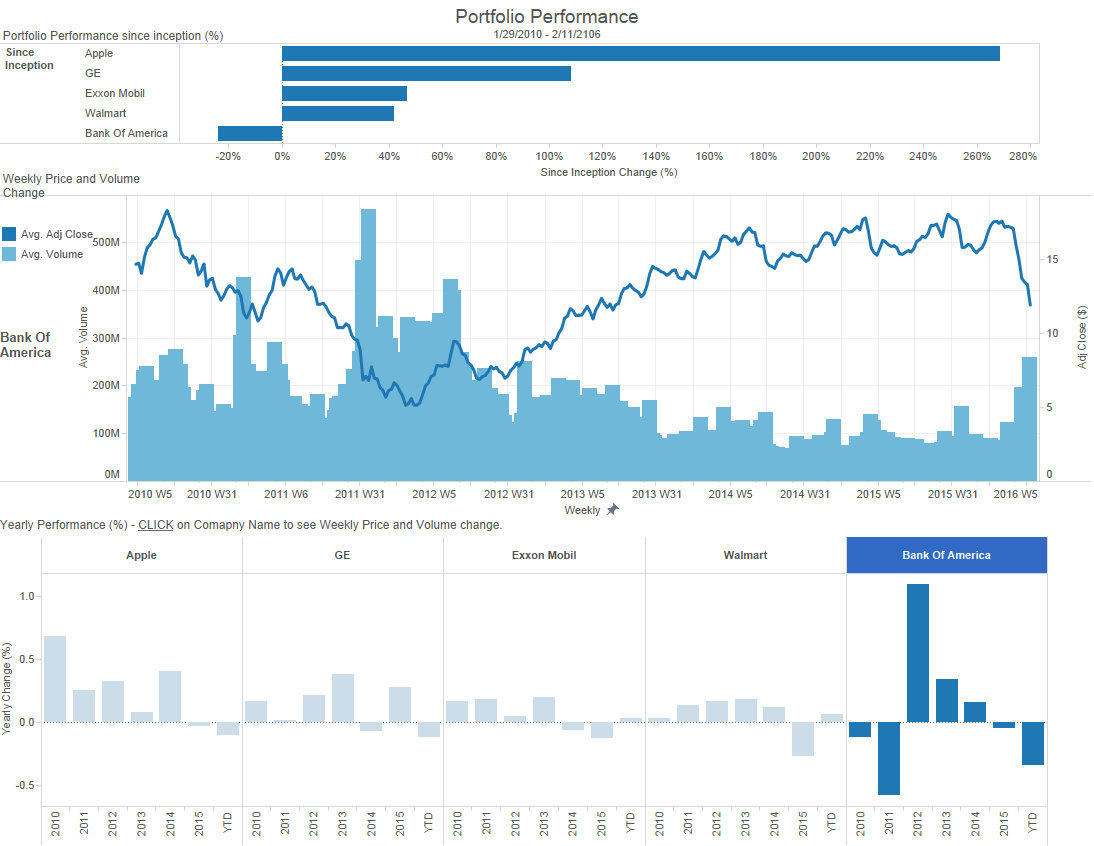

The dashboard page shown, as its layout file describes it:
{"tool":"tableau","page":{"name":"Portfolio Performance Dashboard","canvas":[1100,850],"ordinal":0},"visuals":[{"type":"text","box":[1,3,1098,44]},{"type":"text","box":[3,23,226,30]},{"type":"worksheet","title":"Since Inception Performance %","mark":"Automatic","rows":["Year","Company"],"cols":["52 week change %"],"box":[2,45,1099,201]},{"type":"text","box":[3,173,176,30]},{"type":"legend","title":"Weekly Price Volume","param":"[excel-direct.42413.429417905092].[:Measure Names]","box":[2,226,154,71]},{"type":"text","box":[0,520,555,30]},{"type":"worksheet","title":"Yearly Performance %","mark":"Automatic","rows":["52 week change %"],"cols":["Company","Year"],"box":[0,539,1051,309]}]}

Visuals, with their boxes in screenshot pixels (x1, y1, x2, y2), scaled from the page's 1100x850 canvas onto the 1094x846 screenshot:
text: 1/3/1093/47
text: 3/23/228/53
"Since Inception Performance %" worksheet: 2/45/1093/245
text: 3/172/178/202
"Weekly Price Volume" legend: 2/225/155/296
text: 0/518/552/547
"Yearly Performance %" worksheet: 0/536/1045/844
